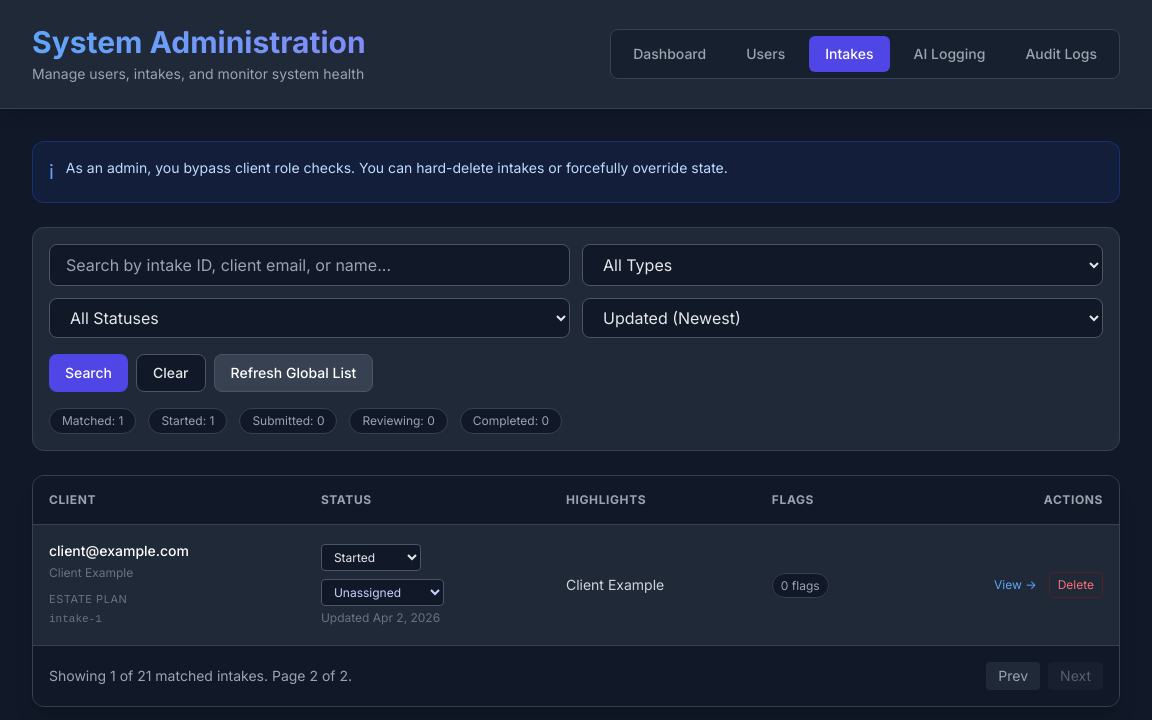
Test case: AdminPanel › decrements the page after deleting the last intake row on a page
What coordinates should you click on to do the following:
click the button with id "admin-intake-delete-intake-1"
I would click on:
 (1076, 585)
Its box is [1049,572,1103,598].
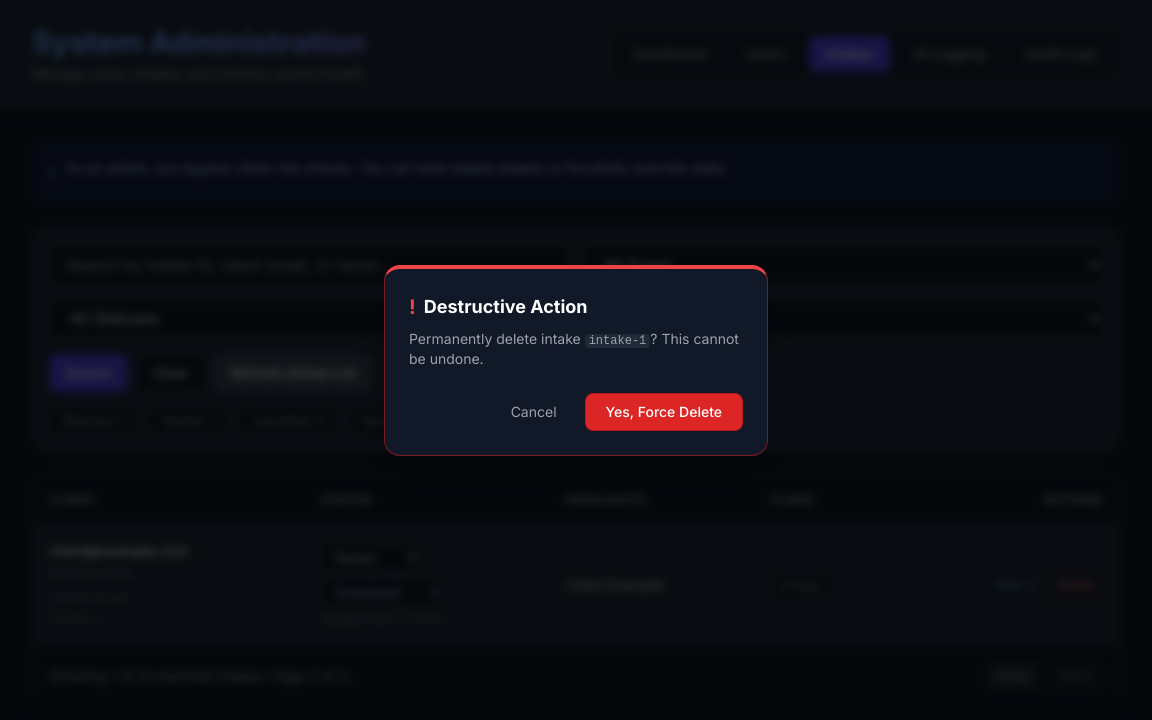
What coordinates should you click on to do the following:
click the button with id "admin-intake-delete-confirm"
I would click on:
 (664, 412)
Its box is [585,392,743,430].
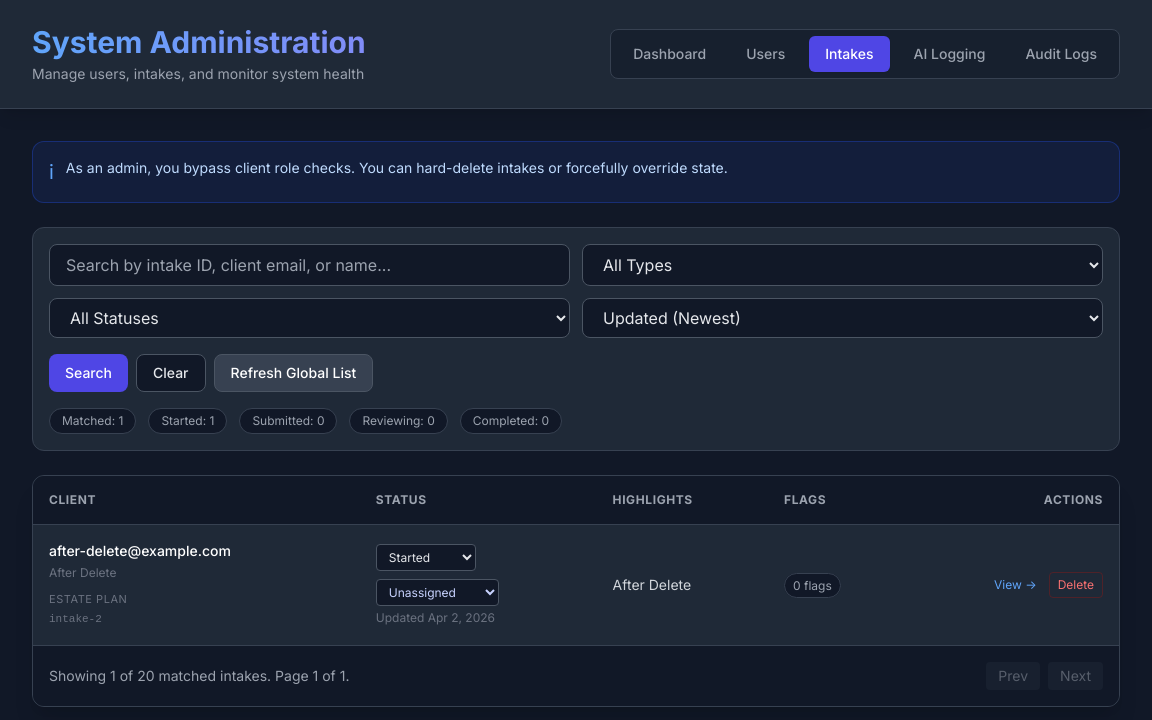
Expected: the text "after-delete@example.com" is shown, [49,542,231,559]
